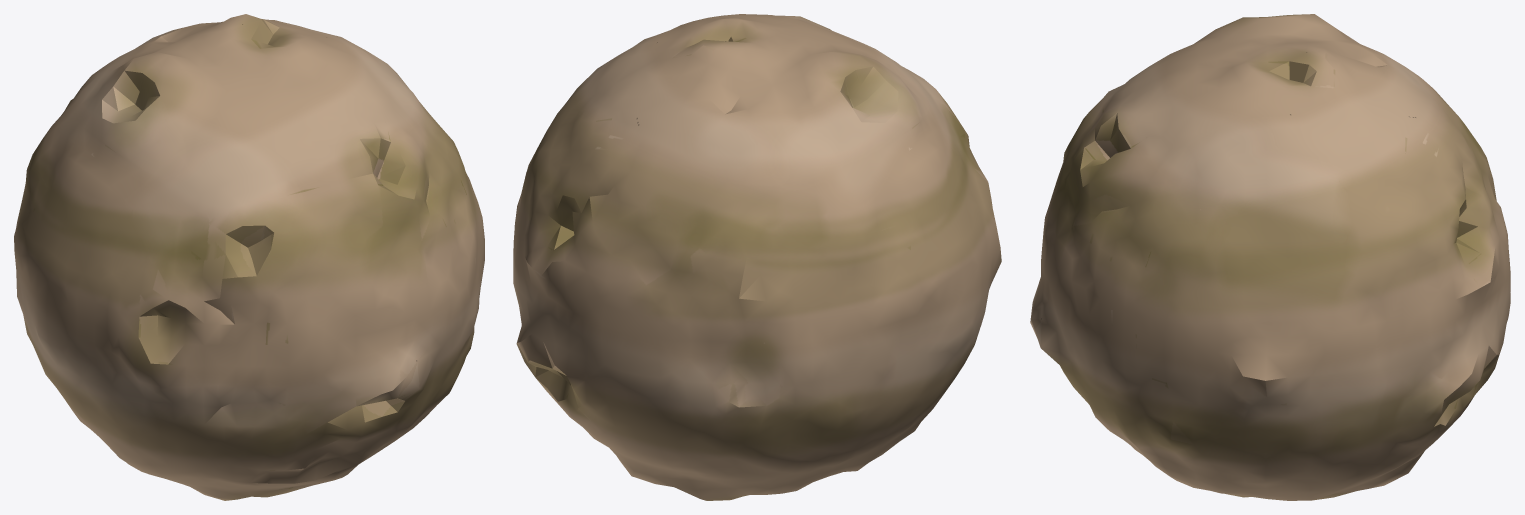
Rendered from planet.obj.
3 renders of one model, left to right at view 1: azimuth 30°, elevation 25°; view 2: azimuth 150°, elevation 25°; view 3: azimuth 270°, elevation 25°, orthographic.
Parts seen in each view (by area): view 1: 球_球.001; view 2: 球_球.001; view 3: 球_球.001.
Boxes of the visible parts, box(x1,y1,x2,y2) form: 球_球.001: box(14, 14, 484, 500); 球_球.001: box(513, 14, 1001, 500); 球_球.001: box(1030, 14, 1510, 500).
Bounding box in the file's own units: 2.04 × 2.02 × 2.02.
Materials: 1 (1 with a texture image).
